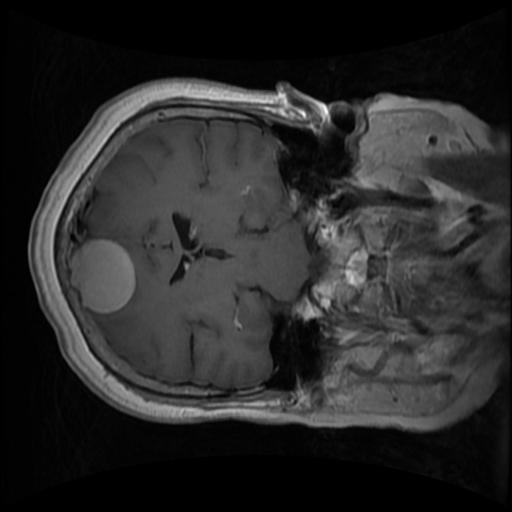meningioma: (69, 238, 135, 312)
